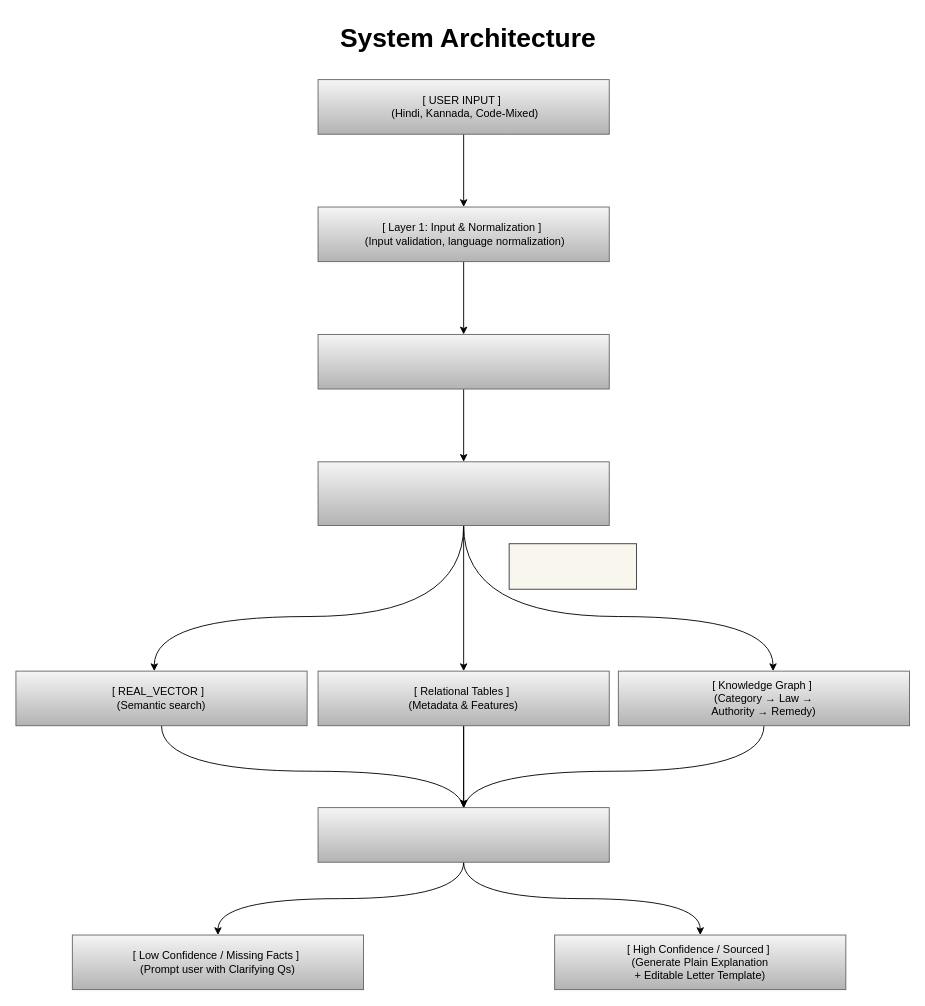
Some shapes in this 925 by 1006 pixel diagram are drawn without their labels. The centre of each missing label's shape, as x and y in pixels:
"[ Layer 2: ML PAL Classifier ] (Extract indicators & predict dispute category)" belongs at point (463, 361).
"[ Layer 3: DL / Embedding Layer ] (Generate semantic vector embedding)" belongs at point (463, 493).
"[ Layer 4: SAP HANA Cloud Storage ]" belongs at point (572, 566).
"[ Layer 5: Agentic Decision Loop ] (Check facts & confidence)" belongs at point (463, 834).
